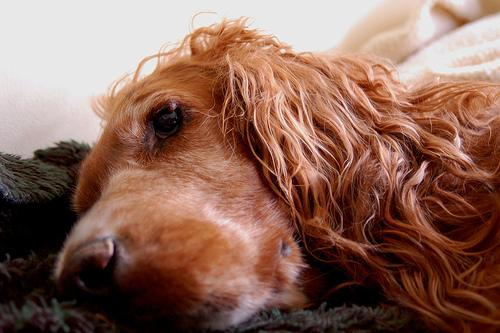Irish_setter: (45, 1, 499, 332)
